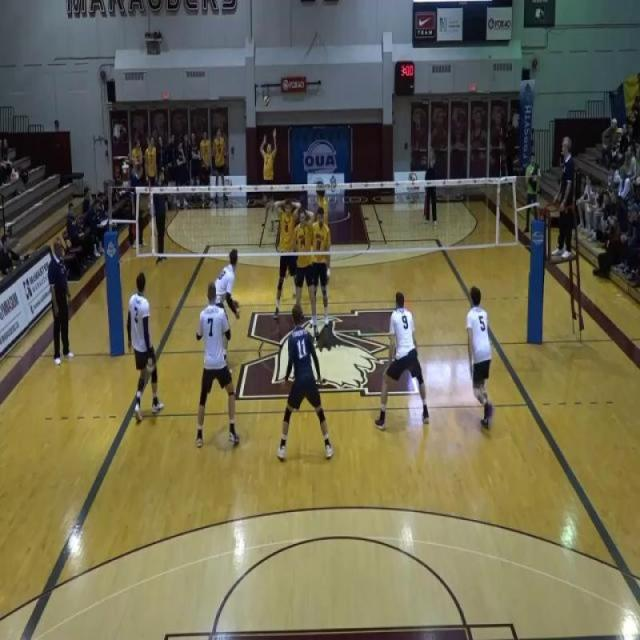volleyball: (263, 95, 270, 108)
